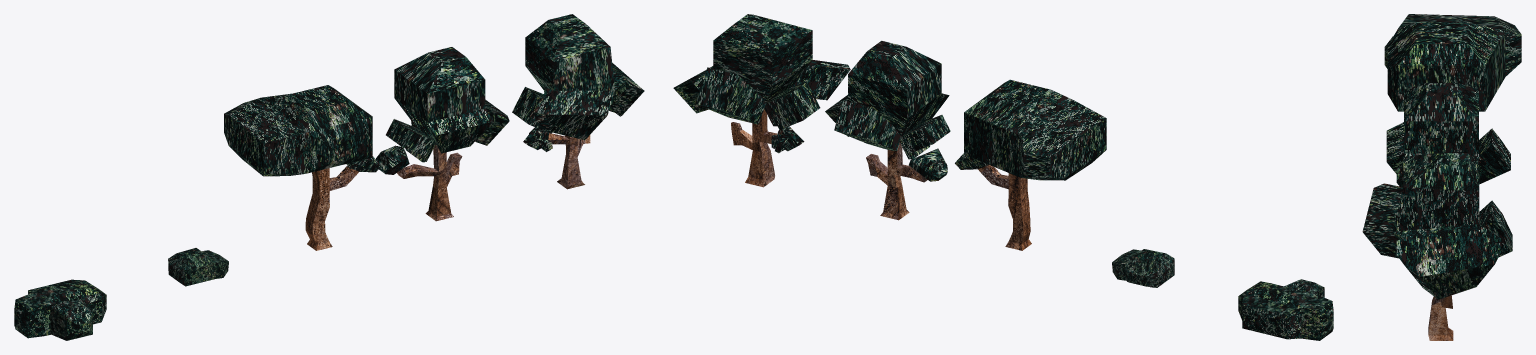
File: Nature Pack props.fbx
The picture shows the model from 3 angles, left to right: view 1: azimuth 30°, elevation 25°; view 2: azimuth 150°, elevation 25°; view 3: azimuth 270°, elevation 25°; orthographic projection. The views are drawn at different scales.
Visible parts, largest first — view 1: Tree.002, Tree.001, Tree, Bush, bush.001; view 2: Tree.001, Tree.002, Tree, Bush, bush.001; view 3: Tree.001, Tree.002, Tree.
Part boxes in pixels (box(x1,y1,x2,y2)): Tree.002: box(224, 85, 381, 250); Tree.001: box(512, 14, 644, 189); Tree: box(376, 47, 509, 221); Bush: box(14, 279, 106, 340); bush.001: box(168, 248, 228, 286); Tree.001: box(673, 14, 850, 187); Tree.002: box(955, 79, 1106, 250); Tree: box(825, 40, 950, 220); Bush: box(1238, 279, 1333, 340); bush.001: box(1112, 249, 1174, 287); Tree.001: box(1362, 153, 1512, 340); Tree.002: box(1387, 14, 1521, 111); Tree: box(1386, 83, 1510, 186).
Size of the model in its own units: 4329 by 1172 by 857.
